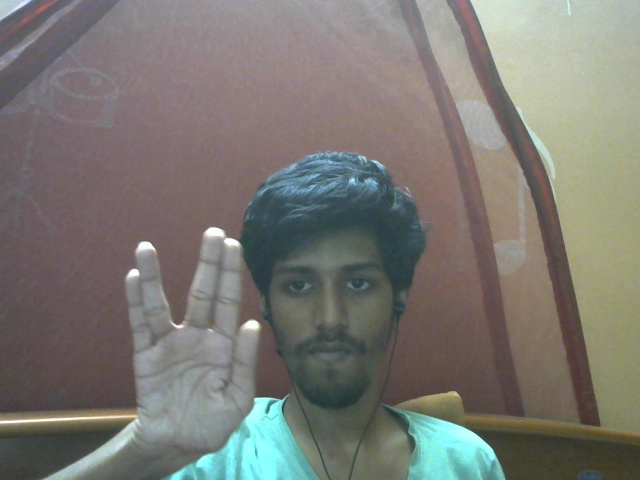LiveLong: (124, 227, 260, 461)
